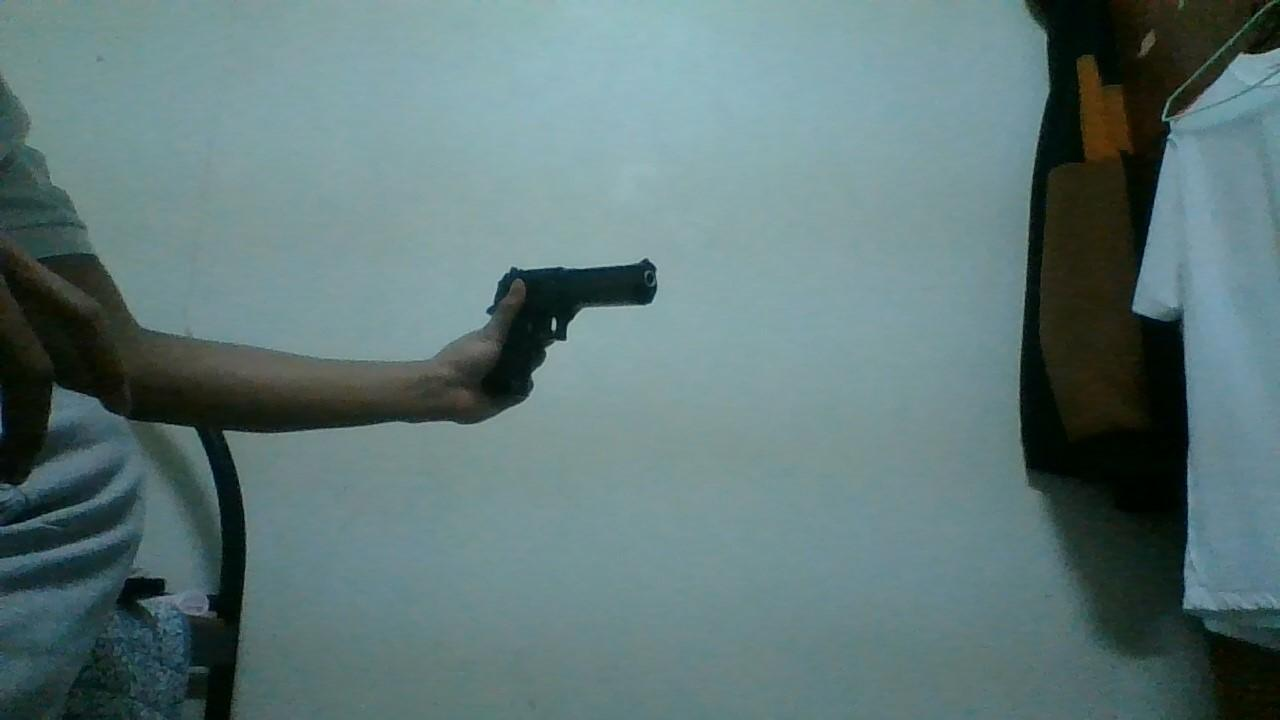weapon: (481, 252, 662, 358)
